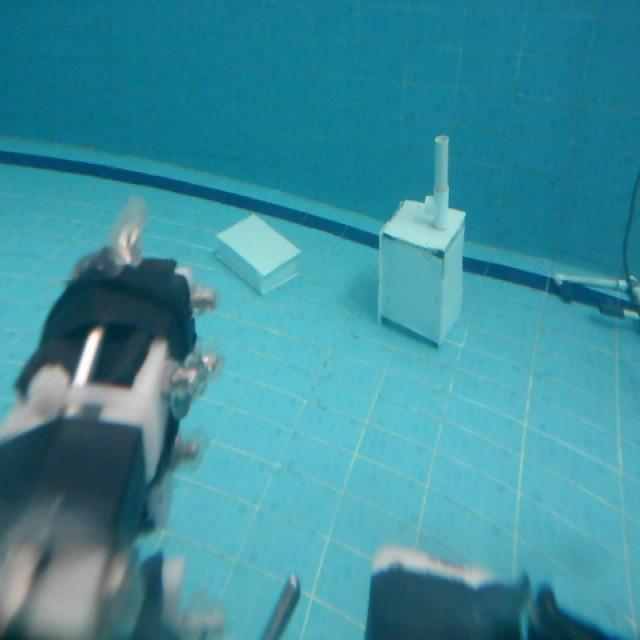Cube: (370, 191, 477, 353)
Cuboid: (213, 209, 302, 296)
